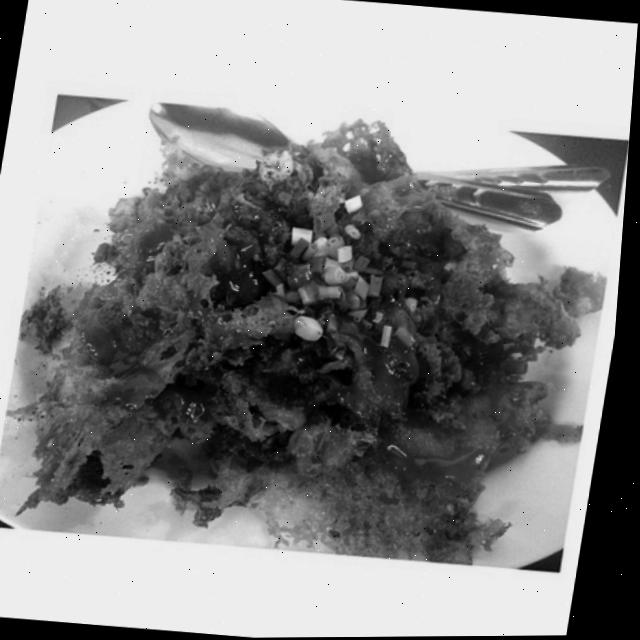炸货点心: (0, 72, 631, 573)
蛋糕甜品: (0, 72, 631, 573)
